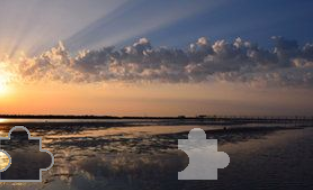target: (173, 125, 233, 184)
